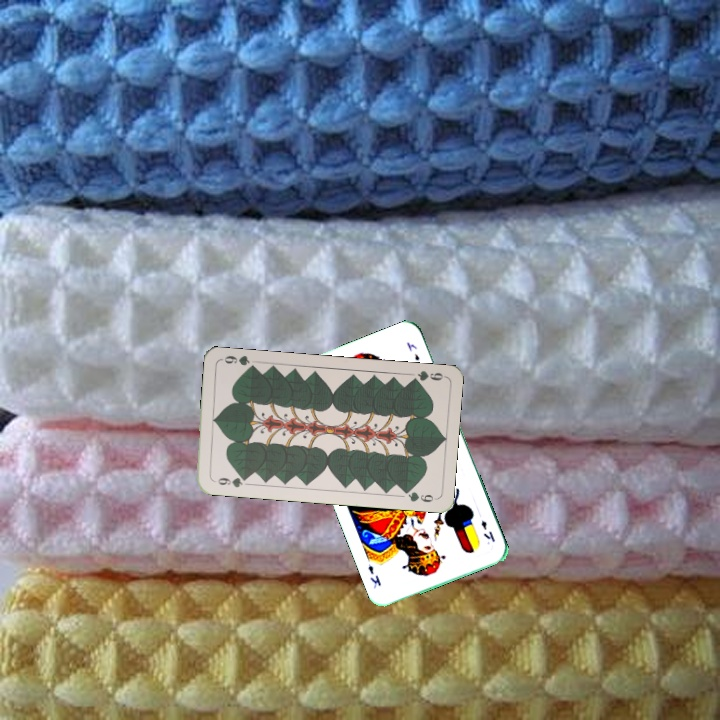EK: (477, 516, 497, 545)
G9: (406, 367, 447, 385), (209, 473, 250, 490)
